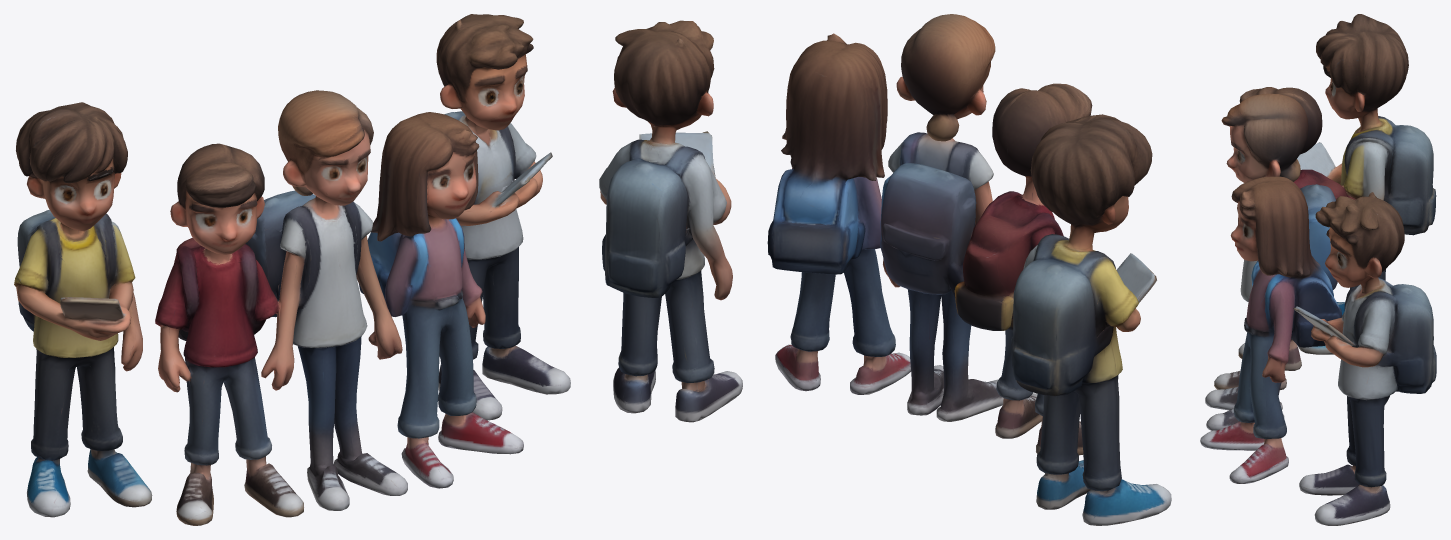
Rendered from studentcafe_WallPoster.glb.
3 renders of one model, left to right at view 1: azimuth 30°, elevation 25°; view 2: azimuth 150°, elevation 25°; view 3: azimuth 270°, elevation 25°, orthographic. The views are drawn at different scales.
Parts seen in each view (by area): view 1: world; view 2: world; view 3: world.
Part boxes in pixels (x1,y1,x2,y2): world: [14, 14, 570, 525]; world: [599, 14, 1171, 525]; world: [1200, 14, 1436, 525].
Bounding box in the file's own units: 1 × 0.6905 × 0.4668.
Materials: 1 (1 with a texture image).
